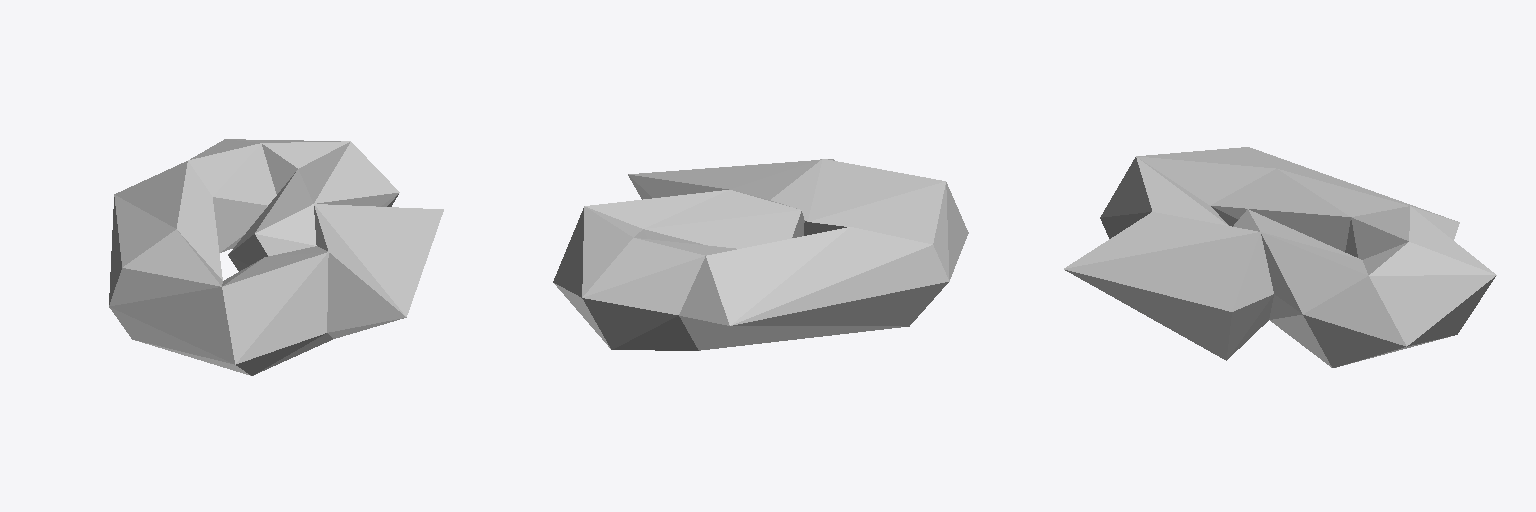
File: DJ_outline.obj
3 views of the same model, side by side, from view 1: azimuth 30°, elevation 25°; view 2: azimuth 150°, elevation 25°; view 3: azimuth 270°, elevation 25° (orthographic).
Visible parts, largest first — view 1: DJ.001_CUCurve.1672; view 2: DJ.001_CUCurve.1672; view 3: DJ.001_CUCurve.1672.
Boxes of the visible parts, x1=… form: DJ.001_CUCurve.1672: x1=109, y1=139, x2=443, y2=375; DJ.001_CUCurve.1672: x1=553, y1=159, x2=968, y2=350; DJ.001_CUCurve.1672: x1=1064, y1=147, x2=1496, y2=367.
Size of the model in its own units: 0.0142 by 0.004 by 0.0162.